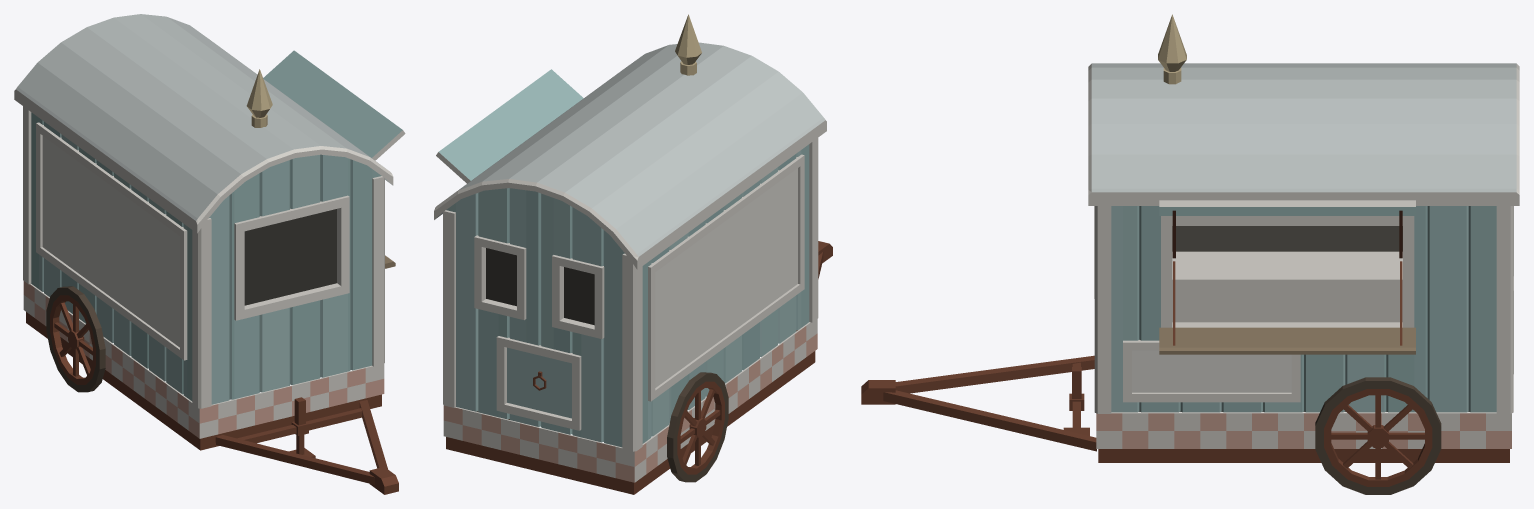
The model's file is ice-cream-kiosk-on-40a568.glb.
3 renders of one model, left to right at view 1: azimuth 30°, elevation 25°; view 2: azimuth 150°, elevation 25°; view 3: azimuth 270°, elevation 25°, orthographic. The views are drawn at different scales.
Parts seen in each view (by area): view 1: kiosk-body, flap-mesh, wheel-r-mesh; view 2: kiosk-body, flap-mesh, wheel-r-mesh; view 3: kiosk-body, wheel-l-mesh, shelf-mesh, flap-mesh.
Part boxes in pixels (box(x1,y1,x2,y2)): kiosk-body: box(14, 14, 398, 494); flap-mesh: box(263, 50, 405, 160); wheel-r-mesh: box(46, 286, 105, 392); kiosk-body: box(434, 14, 832, 494); flap-mesh: box(436, 69, 583, 183); wheel-r-mesh: box(667, 372, 728, 482); kiosk-body: box(861, 14, 1519, 462); wheel-l-mesh: box(1315, 377, 1441, 494); shelf-mesh: box(1159, 261, 1415, 354); flap-mesh: box(1159, 200, 1415, 258).
Size of the model in its own units: 1.99 by 2.84 by 4.
